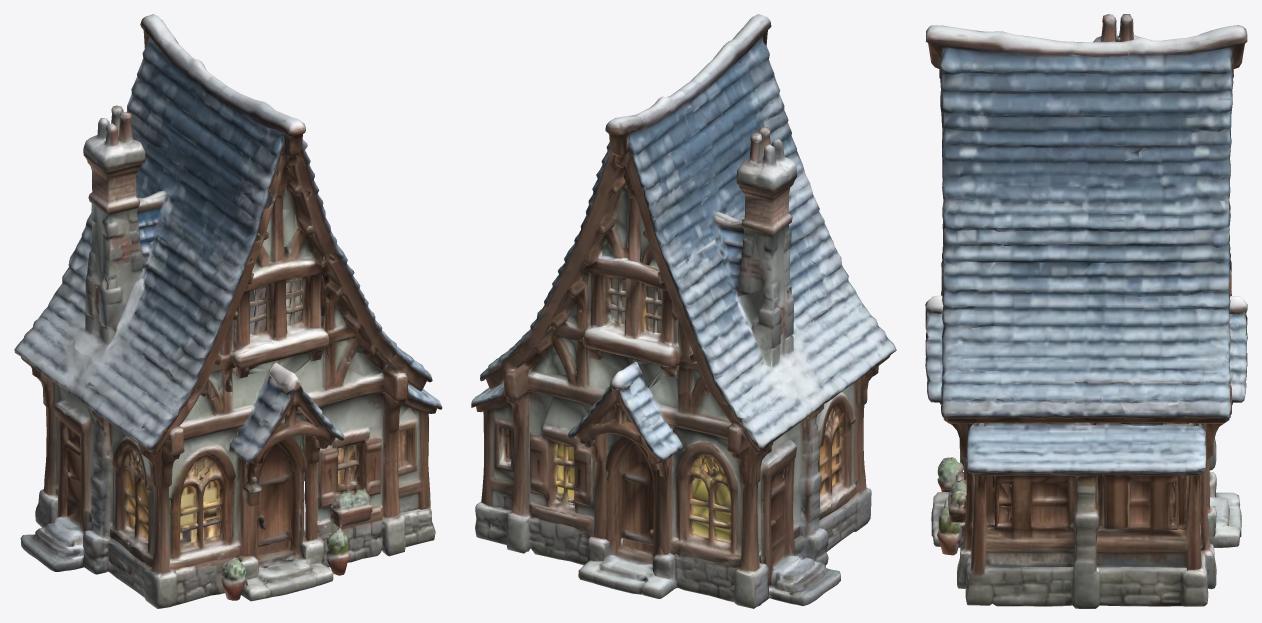
File: aholo-workshop-carpenter.glb
The picture shows the model from 3 angles, left to right: view 1: azimuth 30°, elevation 25°; view 2: azimuth 150°, elevation 25°; view 3: azimuth 270°, elevation 25°; orthographic projection. The views are drawn at different scales.
Visible parts, largest first — view 1: slate-roof-and-gable, timber-and-plaster, stone-plinth; view 2: slate-roof-and-gable, timber-and-plaster, stone-plinth; view 3: slate-roof-and-gable, timber-and-plaster, stone-plinth.
Part boxes in pixels (x1,y1,x2,y2): slate-roof-and-gable: (41,14,403,413); timber-and-plaster: (14,312,442,576); stone-plinth: (20,472,435,608); slate-roof-and-gable: (505,14,869,414); timber-and-plaster: (471,313,896,575); stone-plinth: (475,488,871,608); slate-roof-and-gable: (925,14,1247,373); timber-and-plaster: (925,253,1247,578); stone-plinth: (931,438,1241,608).
Size of the model in its own units: 4.31 by 5.92 by 3.46.
1 material, 1 textured.
